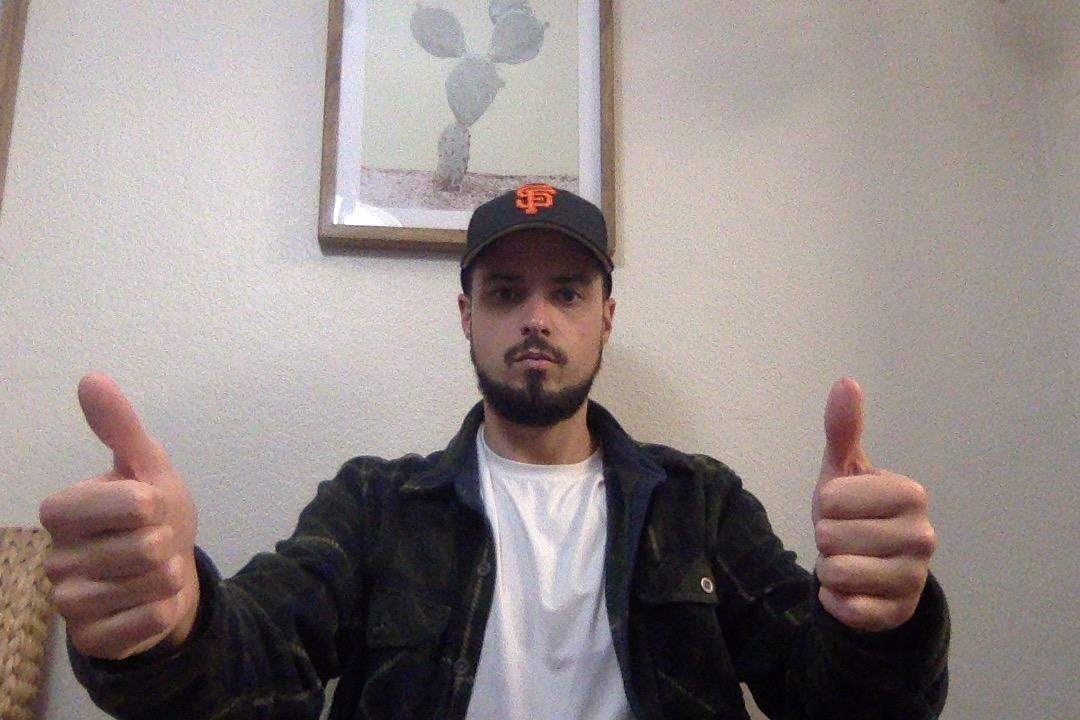Thumbs-Up: (40, 372, 214, 664), (798, 377, 945, 637)
